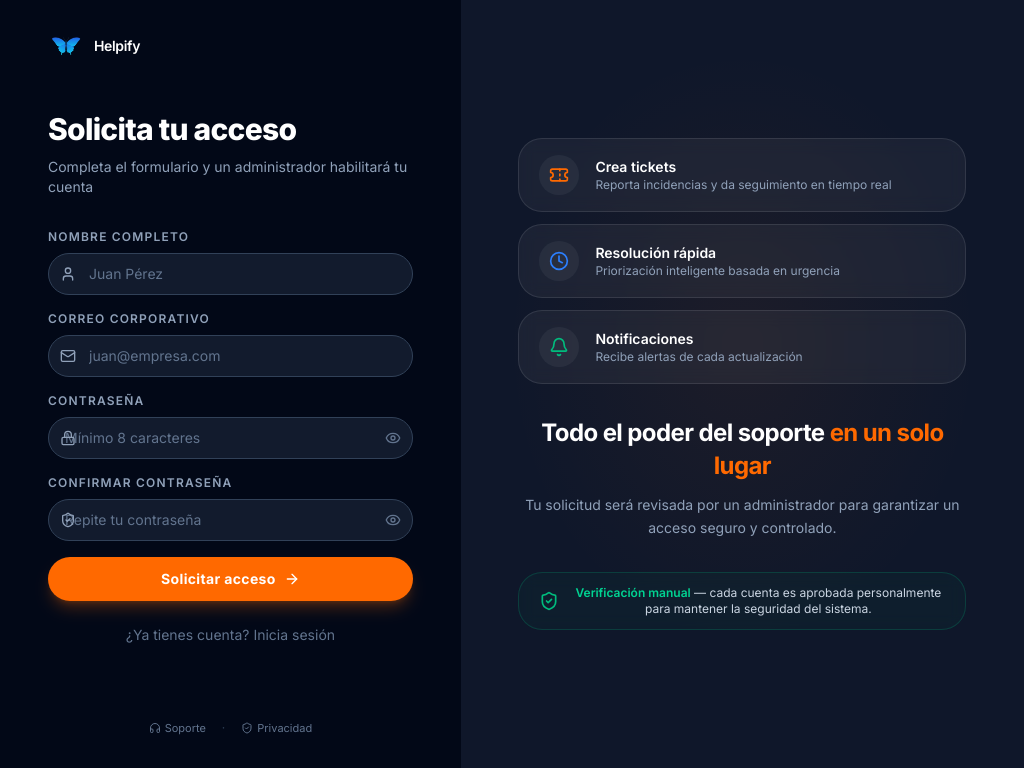
Test: RegisterPage › shows pending approval message after successful registration
Note: Fill form
Type "Test User" into the field with placeholder "Juan Pérez" at (230,274), box [48, 252, 413, 294]
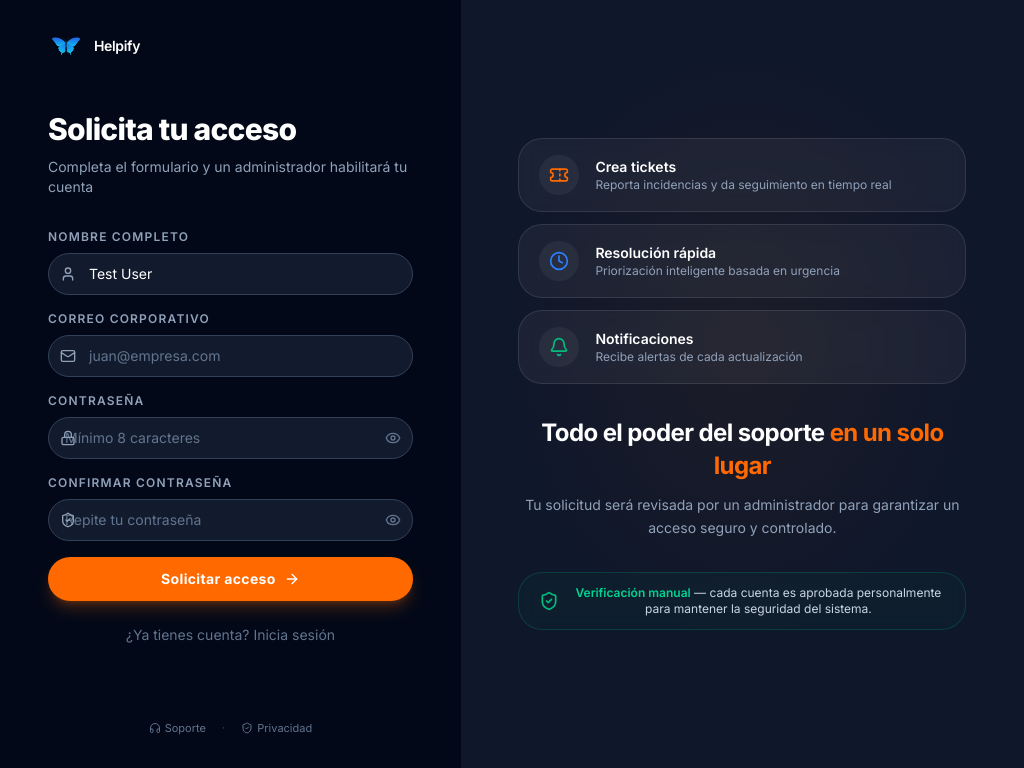
Type "test@example.com" into the field with placeholder "juan@empresa.com" at (230,356), box [48, 334, 413, 376]
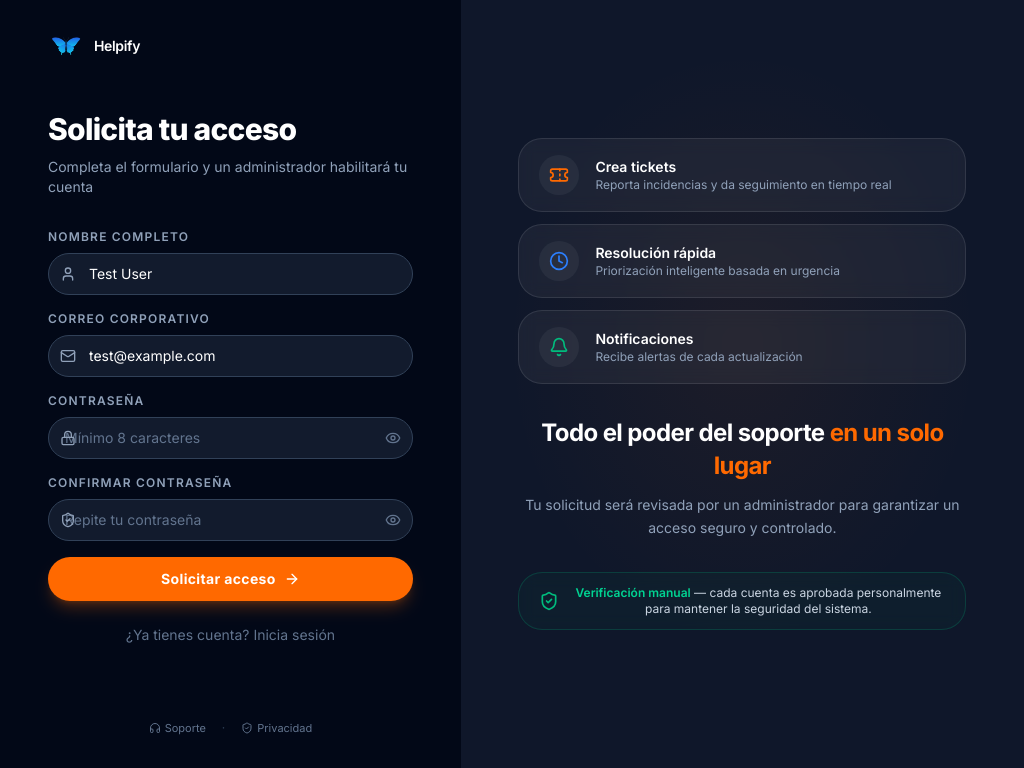
Type "password123" into the password field with placeholder "Mínimo 8 caracteres" at (230,438), box [48, 416, 413, 458]
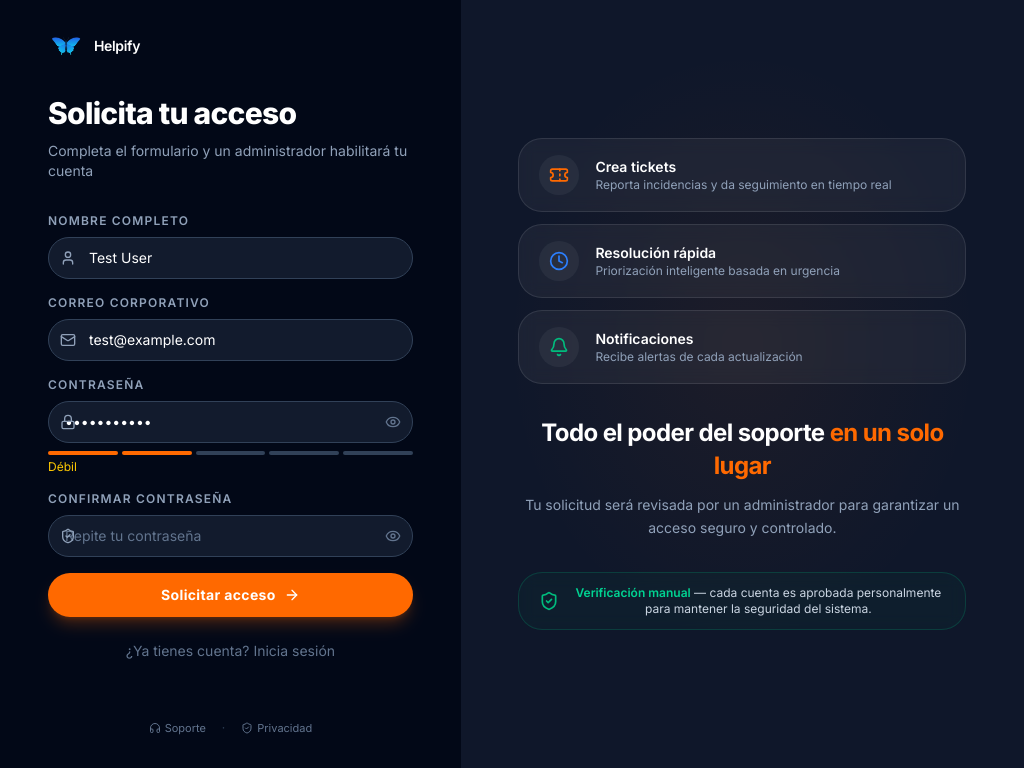
Type "password123" into the password field with placeholder "Repite tu contraseña" at (230,536), box [48, 514, 413, 556]
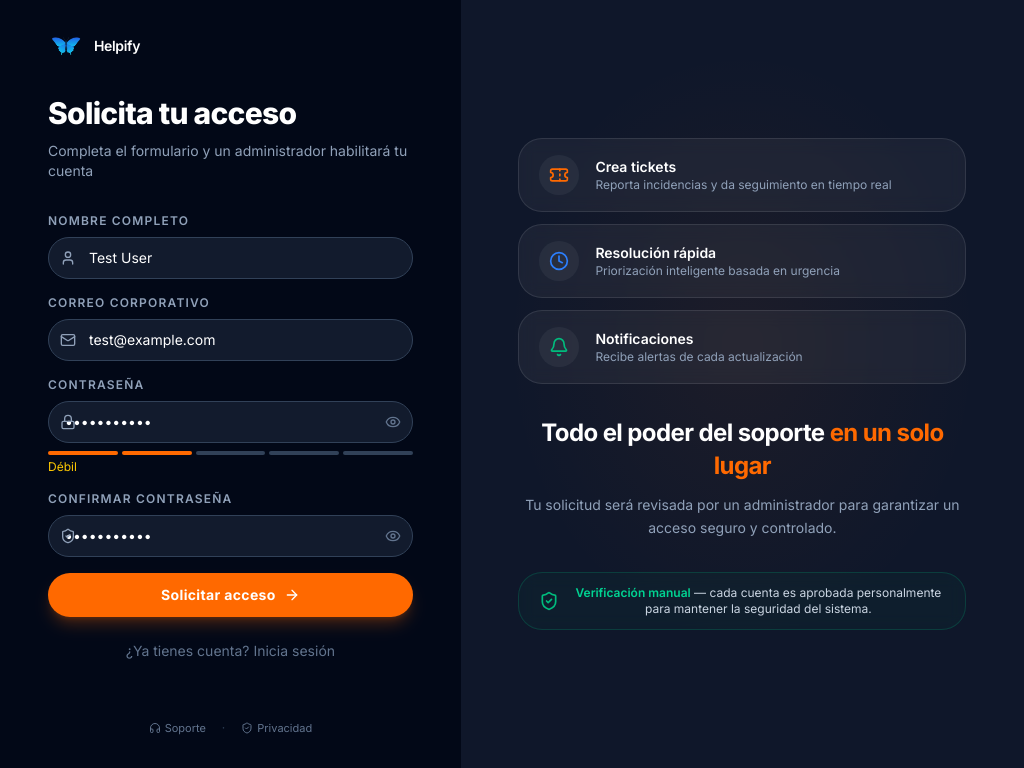
Click the button "Solicitar acceso" at (230,594), box [48, 572, 413, 616]
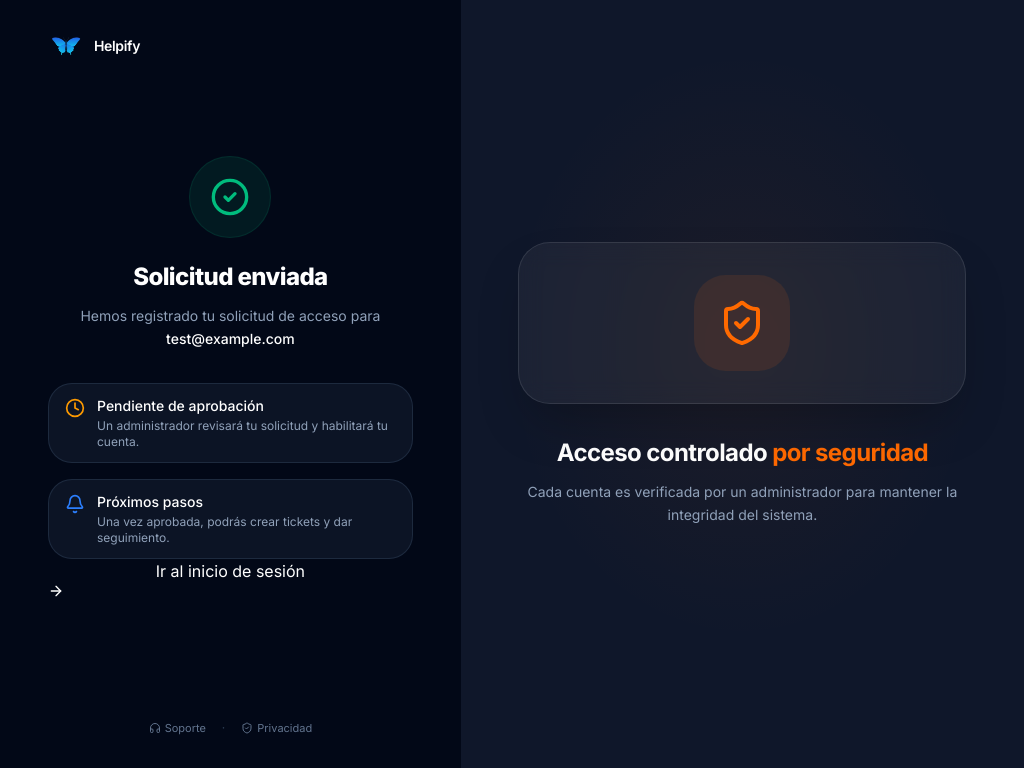
Now the heading "Solicitud enviada" is shown, box [133, 262, 328, 291]
Now the text "test@example.com" is shown, box [166, 330, 295, 347]
Now the text "Pendiente de aprobación" is shown, box [97, 396, 264, 414]
